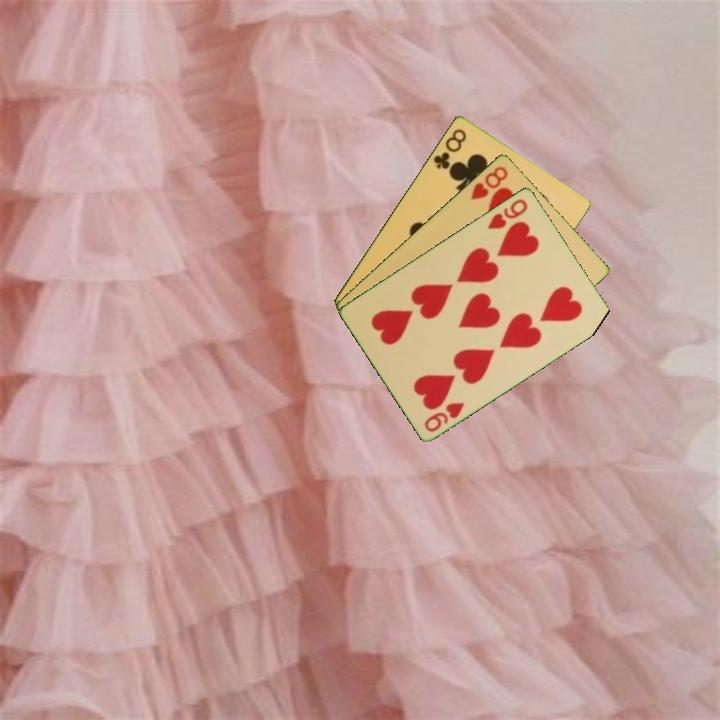8c: (430, 125, 469, 172)
8h: (467, 162, 511, 202)
9h: (484, 195, 531, 232), (421, 398, 468, 435)
